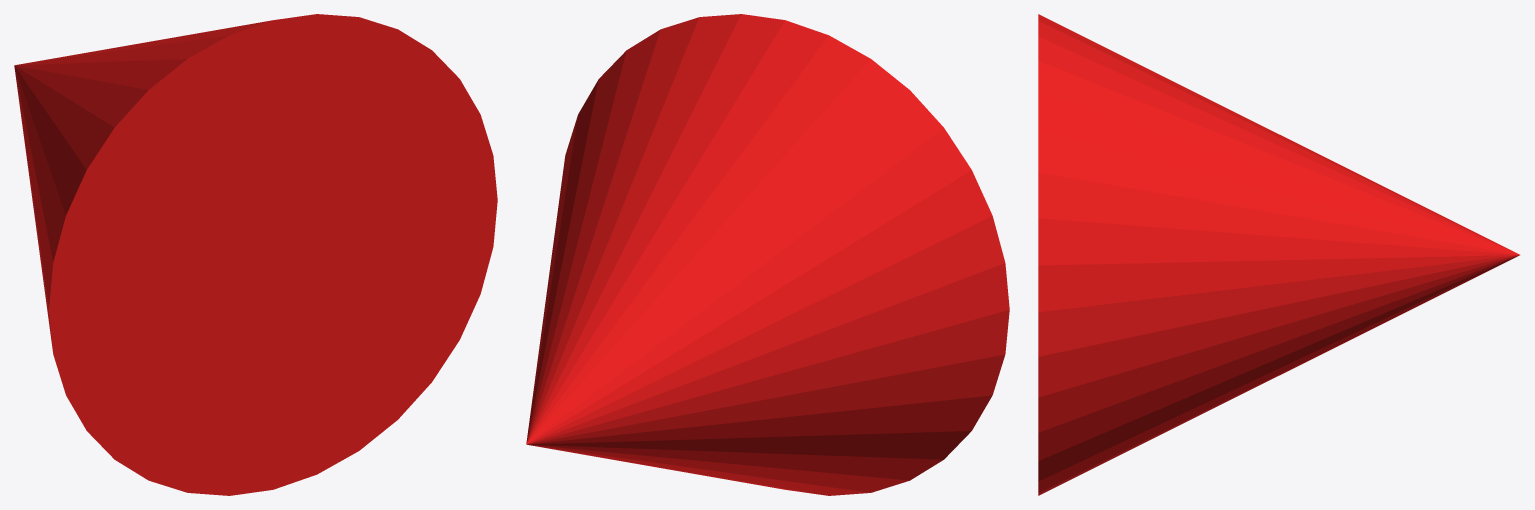
Rendered from EnemyBullet.obj.
The picture shows the model from 3 angles, left to right: view 1: azimuth 30°, elevation 25°; view 2: azimuth 150°, elevation 25°; view 3: azimuth 270°, elevation 25°; orthographic projection. The views are drawn at different scales.
Parts seen in each view (by area): view 1: 円錐.001; view 2: 円錐.001; view 3: 円錐.001.
Boxes of the visible parts, box(x1,y1,x2,y2) form: 円錐.001: box(14, 14, 497, 495); 円錐.001: box(526, 14, 1009, 495); 円錐.001: box(1038, 14, 1519, 495).
Size of the model in its own units: 2 by 2 by 2.
Materials: 1 (1 with a texture image).
